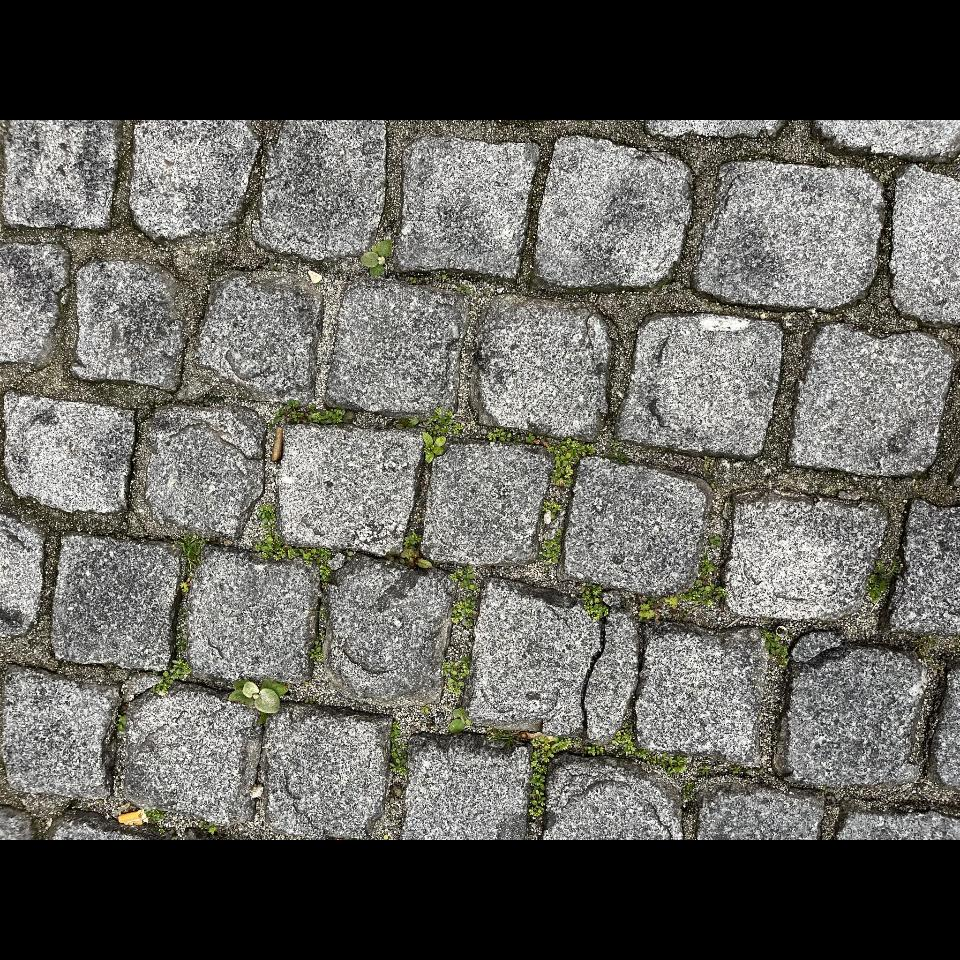weed: (254, 505, 344, 582), (639, 550, 726, 619), (604, 722, 688, 774), (529, 738, 573, 817), (228, 680, 286, 724), (174, 533, 210, 597), (548, 438, 594, 487), (271, 400, 352, 427), (160, 607, 186, 682), (450, 567, 478, 628), (537, 499, 563, 563), (422, 408, 452, 463), (867, 558, 899, 603), (488, 428, 549, 448), (390, 720, 410, 780), (761, 626, 790, 667), (443, 655, 470, 696), (361, 240, 391, 276), (583, 585, 609, 620), (449, 708, 471, 733), (453, 423, 463, 433)
